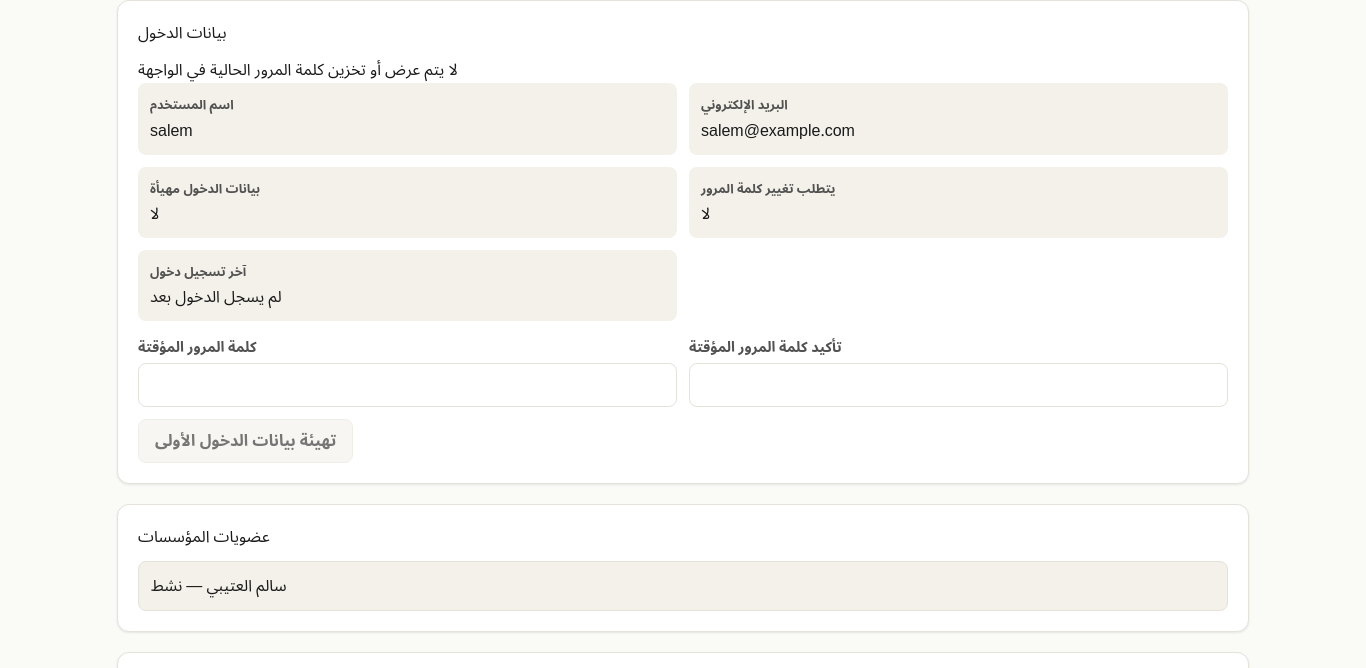
Test: Tenant User Detail › initializes the first credential only for an eligible passwordless active user
(page scrolled)
In the password field labelled "كلمة المرور المؤقتة": point(408, 385) [138,363,677,407], type "TempPass123!"
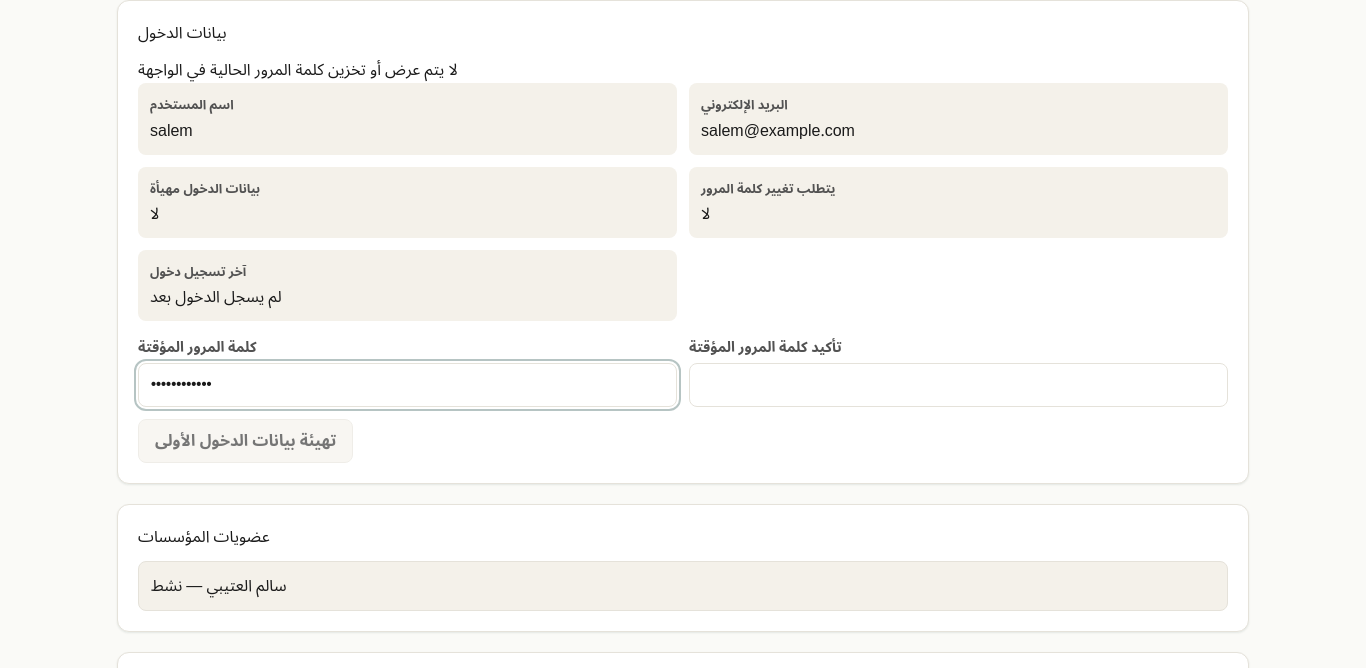
In the password field labelled "تأكيد كلمة المرور المؤقتة": point(958, 385) [689,363,1228,407], type "TempPass123!"
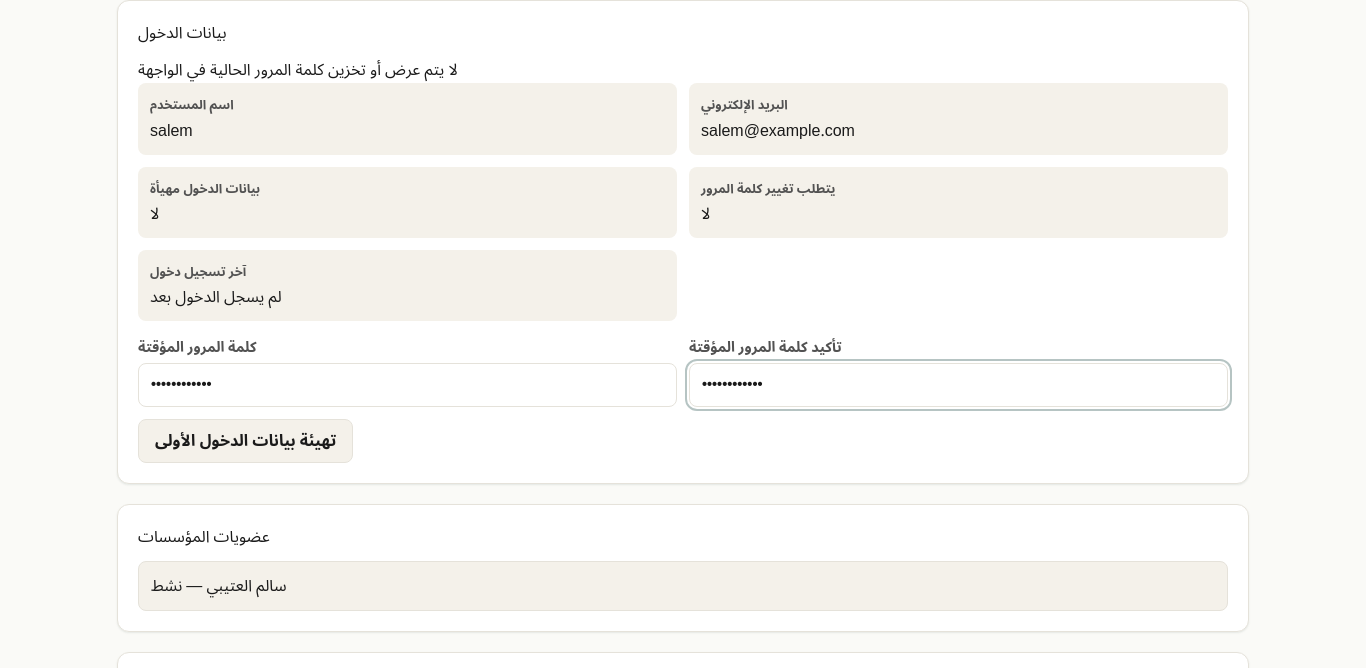
Click the button "تهيئة بيانات الدخول الأولى": point(246, 441) [138,419,353,463]
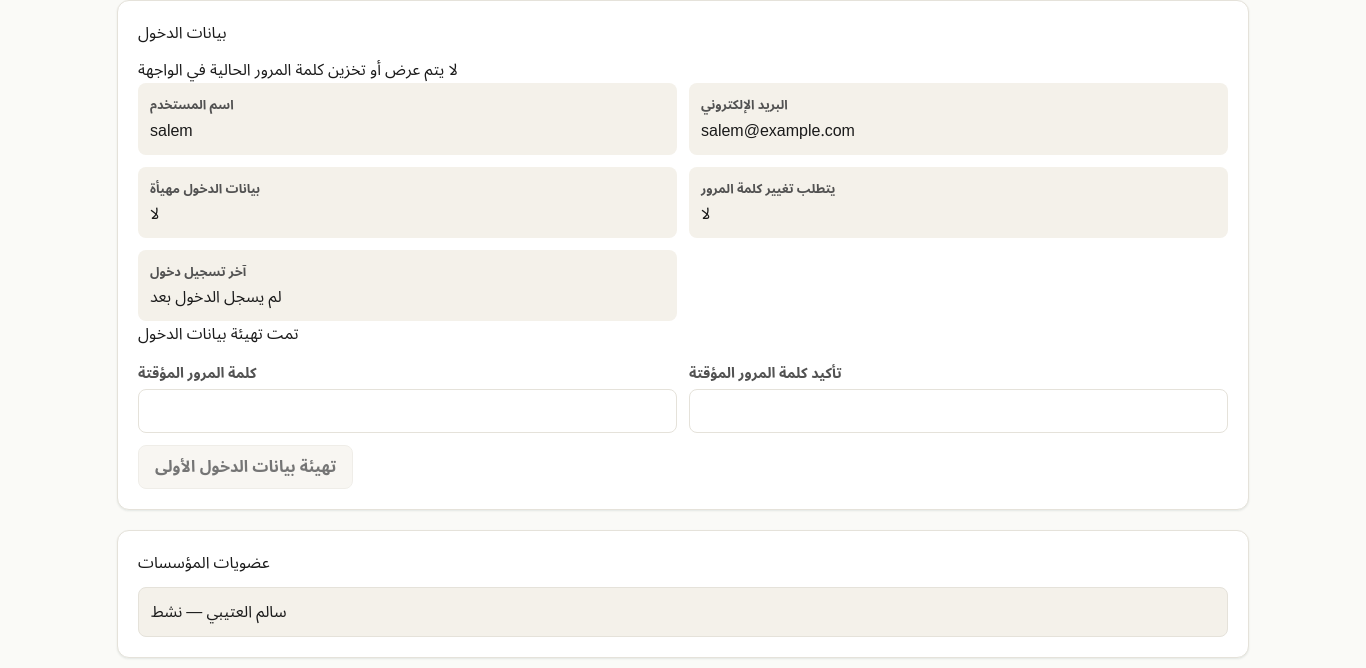
Expected: the message reads "تمت تهيئة بيانات الدخول", [138,317,298,351]
